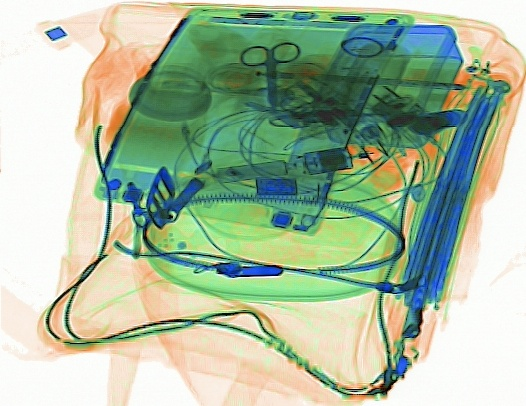scissors: (237, 40, 301, 116)
